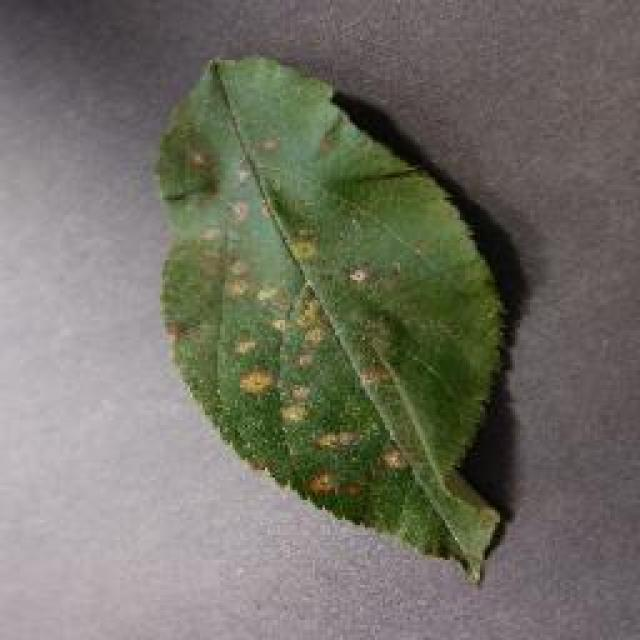Apple___Cedar_apple_rust: (148, 48, 514, 591)
